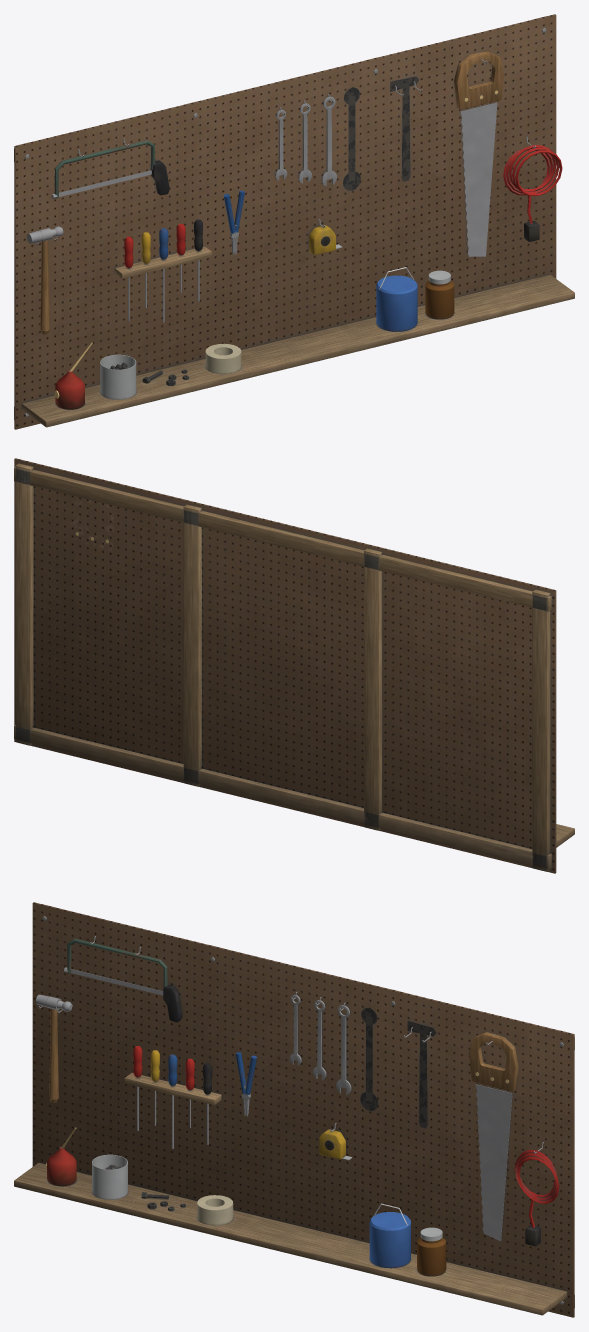
File: painel_ferramentas.glb
3 renders of one model, top to bottom at view 1: azimuth 30°, elevation 25°; view 2: azimuth 150°, elevation 25°; view 3: azimuth 330°, elevation 25°, orthographic.
Parts seen in each view (by area): view 1: painel; view 2: painel; view 3: painel.
Part boxes in pixels (bbox=[...]): painel: bbox=[14, 14, 574, 429]; painel: bbox=[14, 458, 574, 873]; painel: bbox=[14, 902, 574, 1317].
Bounding box in the file's own units: 1.8 × 0.9002 × 0.17.
Materials: 1 (1 with a texture image).
